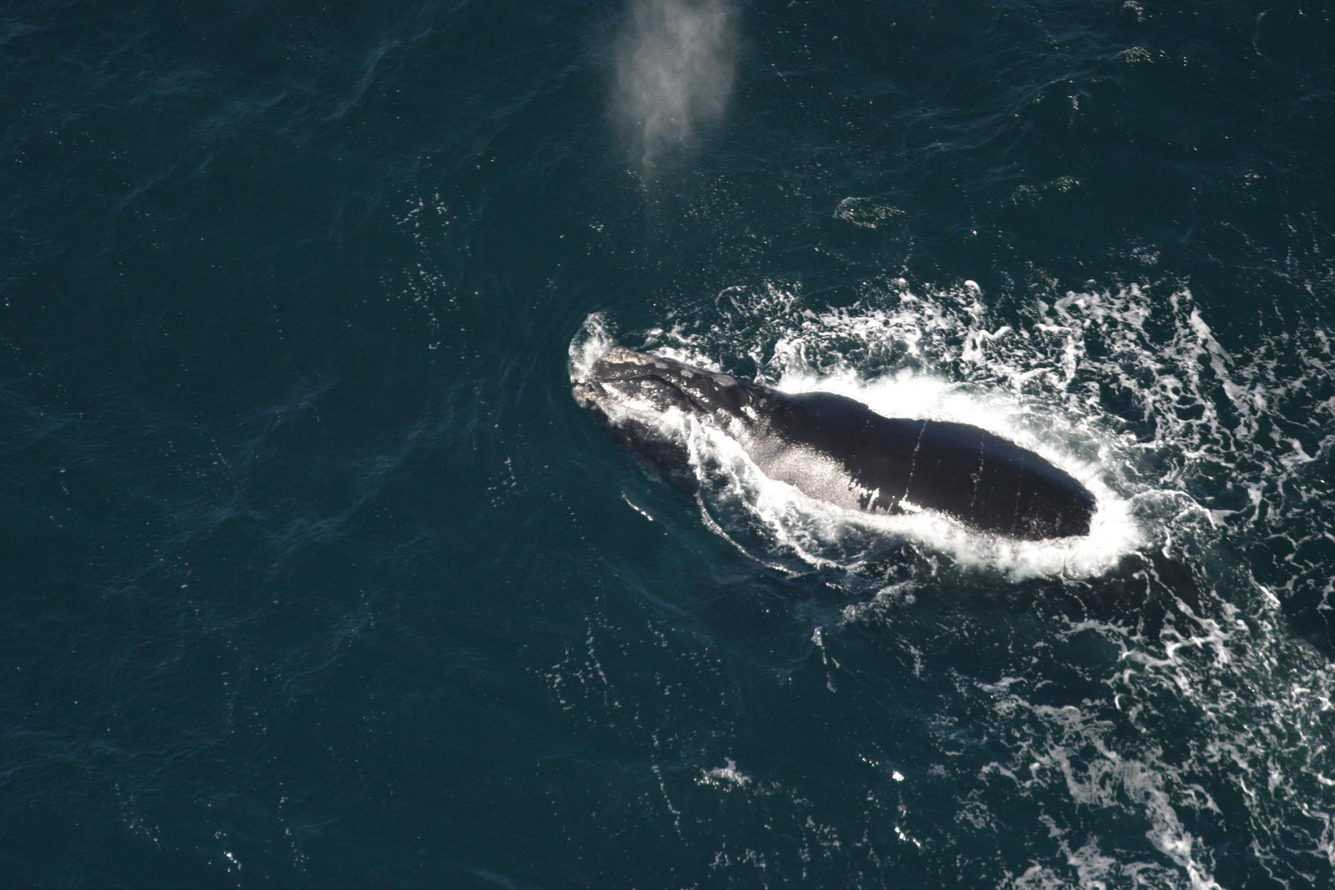whale: (579, 341, 1249, 579)
